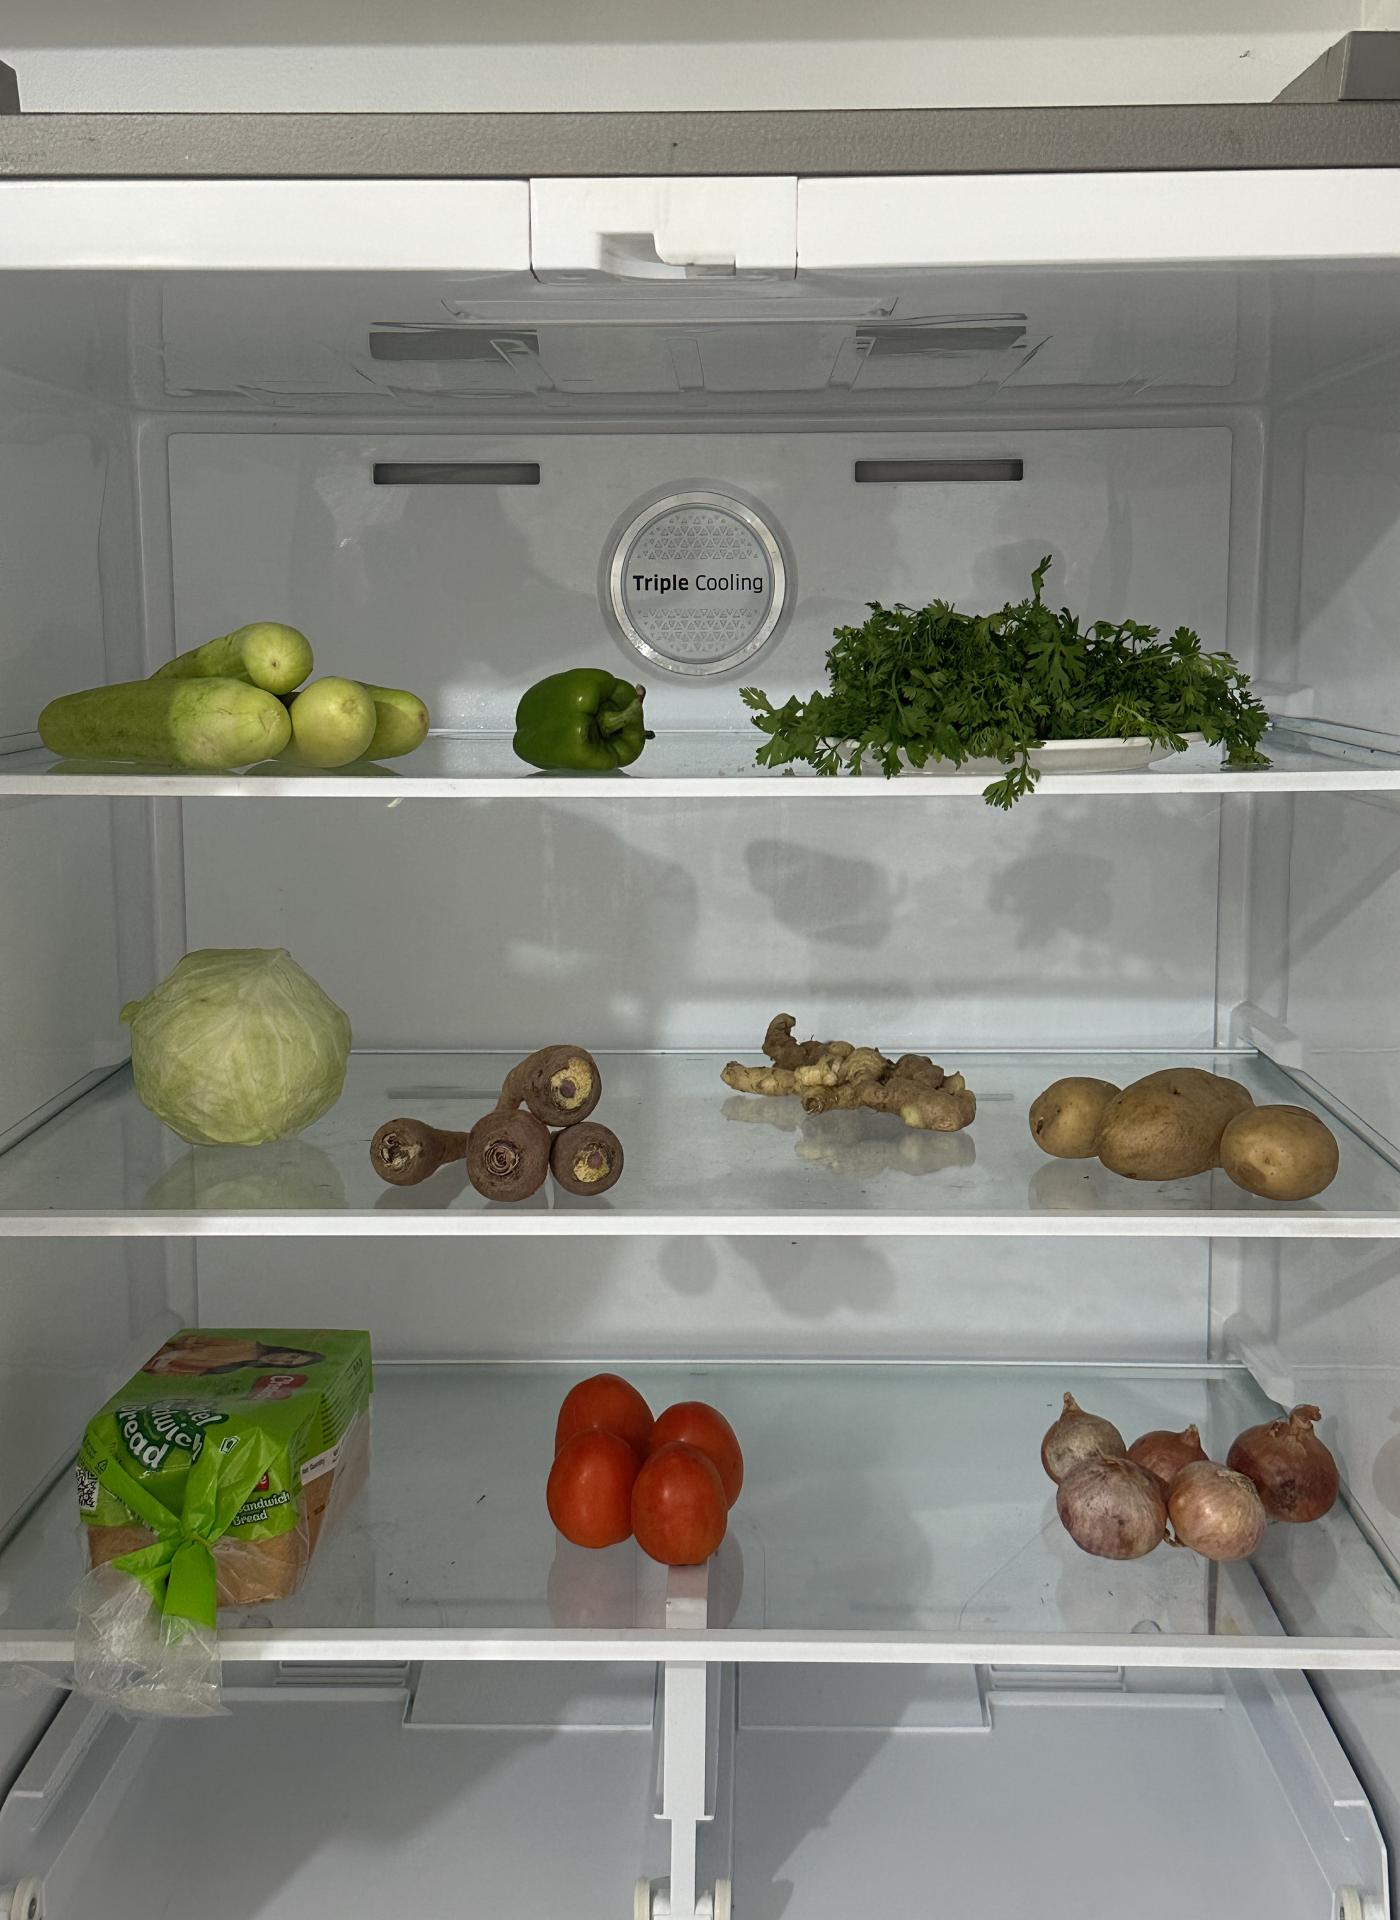bread: (67, 1312, 392, 1614)
cabbage: (128, 936, 352, 1146), (374, 1038, 626, 1199)
capsicum: (498, 654, 668, 777)
coriander: (801, 590, 1248, 780)
cucumber: (34, 610, 435, 783)
ginger: (710, 1000, 990, 1149)
onion: (1042, 1380, 1346, 1562)
potato: (1026, 1054, 1343, 1199)
tomato: (534, 1368, 753, 1568)
